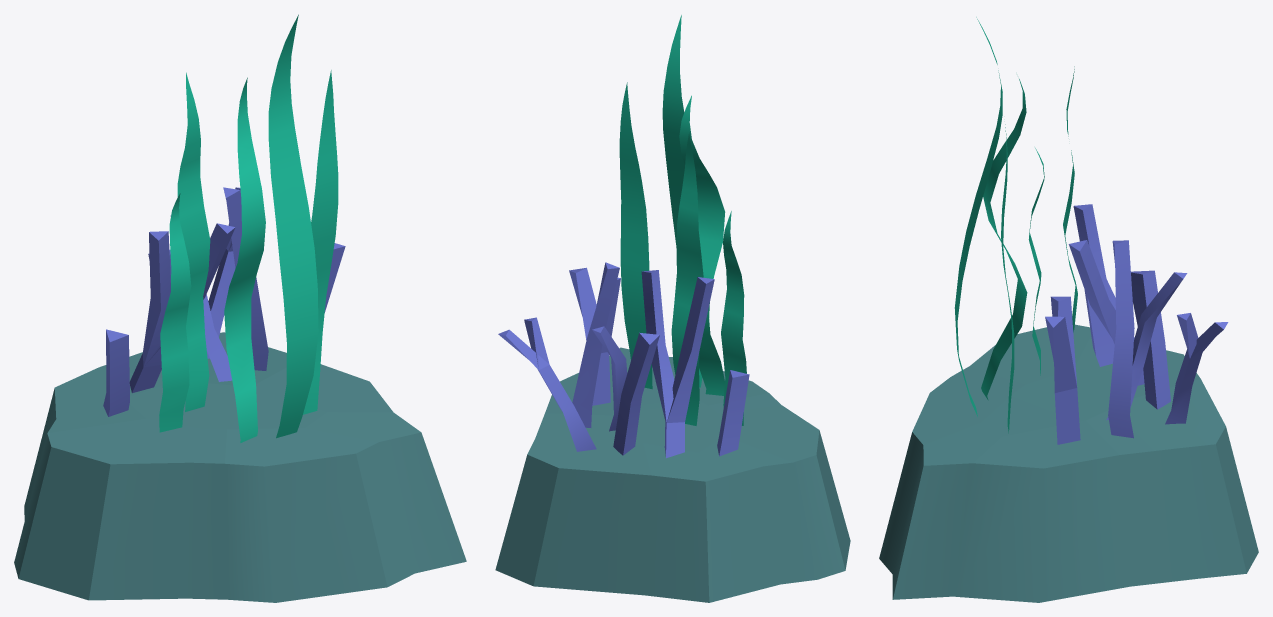
Rendered from coral_symbiosis_G.fbx.
3 views of the same model, side by side, from view 1: azimuth 30°, elevation 25°; view 2: azimuth 150°, elevation 25°; view 3: azimuth 270°, elevation 25° (orthographic). The views are drawn at different scales.
Parts seen in each view (by area): view 1: coral_symbiosis_G_base, coral_symbiosis_G_kelp_A, coral_symbiosis_G_sponge, coral_symbiosis_G_kelp_C, coral_symbiosis_G_kelp_D, coral_symbiosis_G_kelp_E, coral_symbiosis_G_kelp_B; view 2: coral_symbiosis_G_base, coral_symbiosis_G_sponge, coral_symbiosis_G_kelp_B, coral_symbiosis_G_kelp_D, coral_symbiosis_G_kelp_C, coral_symbiosis_G_kelp_A, coral_symbiosis_G_kelp_E; view 3: coral_symbiosis_G_base, coral_symbiosis_G_sponge, coral_symbiosis_G_kelp_C, coral_symbiosis_G_kelp_A, coral_symbiosis_G_kelp_B, coral_symbiosis_G_kelp_D, coral_symbiosis_G_kelp_E.
Part boxes in pixels (box(x1,y1,x2,y2)): coral_symbiosis_G_base: box(14, 332, 466, 602); coral_symbiosis_G_kelp_A: box(268, 14, 318, 438); coral_symbiosis_G_sponge: box(103, 187, 345, 416); coral_symbiosis_G_kelp_C: box(224, 77, 265, 442); coral_symbiosis_G_kelp_D: box(177, 72, 210, 411); coral_symbiosis_G_kelp_E: box(159, 193, 191, 432); coral_symbiosis_G_kelp_B: box(303, 70, 338, 414); coral_symbiosis_G_base: box(495, 347, 850, 602); coral_symbiosis_G_sponge: box(498, 262, 749, 458); coral_symbiosis_G_kelp_B: box(619, 82, 652, 389); coral_symbiosis_G_kelp_D: box(671, 132, 703, 425); coral_symbiosis_G_kelp_C: box(679, 95, 725, 395); coral_symbiosis_G_kelp_A: box(662, 15, 709, 387); coral_symbiosis_G_kelp_E: box(721, 211, 746, 425); coral_symbiosis_G_base: box(879, 324, 1258, 602); coral_symbiosis_G_sponge: box(1045, 204, 1228, 444); coral_symbiosis_G_kelp_C: box(981, 79, 1027, 400); coral_symbiosis_G_kelp_A: box(954, 17, 1002, 416); coral_symbiosis_G_kelp_B: box(1001, 124, 1014, 433); coral_symbiosis_G_kelp_D: box(1063, 66, 1077, 332); coral_symbiosis_G_kelp_E: box(1028, 148, 1044, 375).
Bounding box in the file's own units: 55.94 × 78.88 × 51.39.
